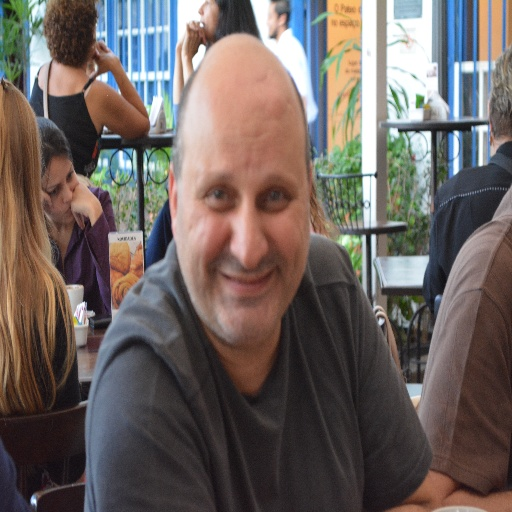hand: (87, 37, 121, 81), (72, 180, 98, 224), (175, 17, 206, 53), (180, 18, 201, 60), (90, 41, 109, 60), (40, 188, 52, 214)
